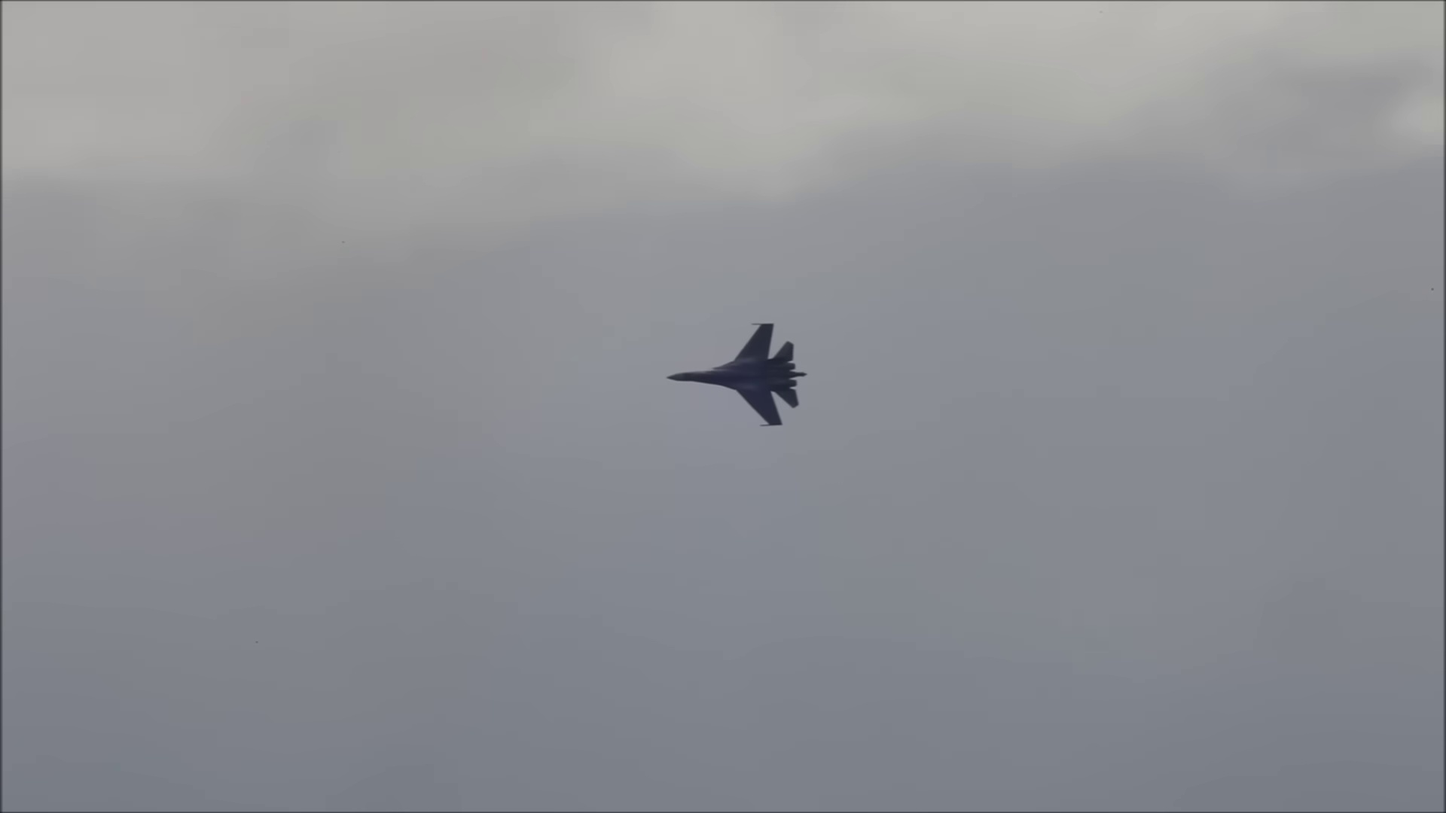Su35: (661, 319, 807, 431)
